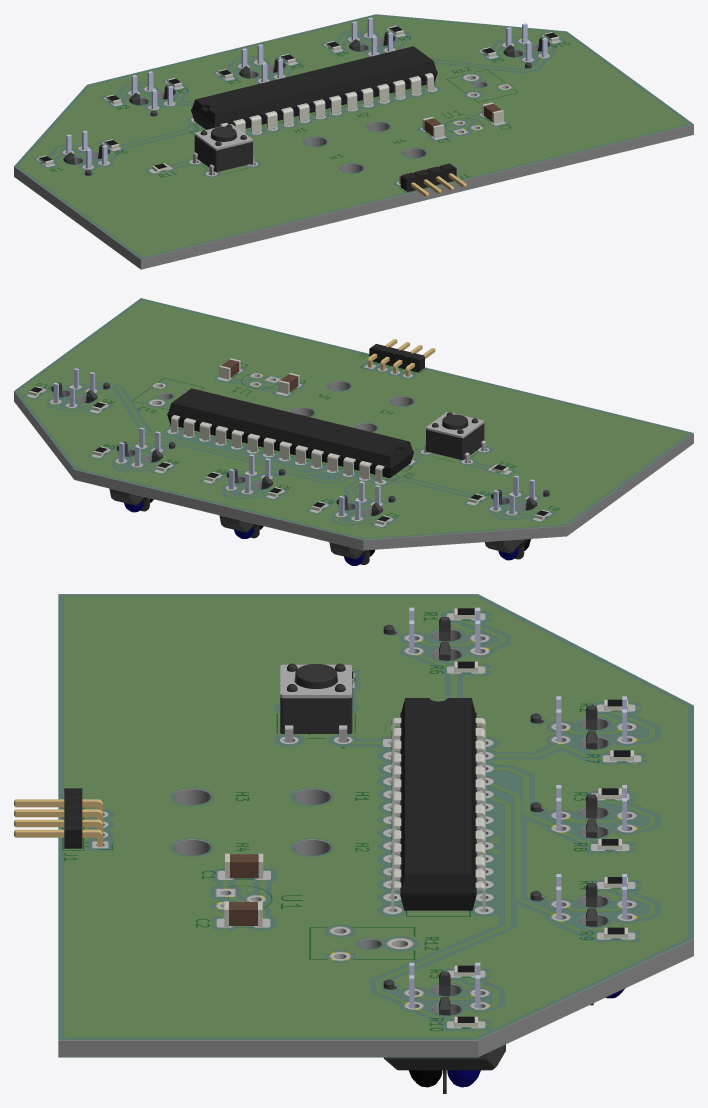
File: line-follower-sensor-array-m3.glb
3 views of the same model, one above another, from view 1: azimuth 30°, elevation 25°; view 2: azimuth 150°, elevation 25°; view 3: azimuth 270°, elevation 25° (orthographic). The views are drawn at different scales.
Visible parts, largest first — view 1: =>[0:1:1:11], =>[0:1:1:8], =>[0:1:1:12], U2, SW1, =>[0:1:1:9], J1, =>[0:1:1:10], U4, U5, U7, U3 (+1 smaller); view 2: =>[0:1:1:11], =>[0:1:1:8], =>[0:1:1:12], U2, SW1, =>[0:1:1:9], J1, U3, U4, U6, U5, =>[0:1:1:10] (+1 smaller); view 3: =>[0:1:1:11], =>[0:1:1:8], =>[0:1:1:12], U2, =>[0:1:1:9], SW1, U7, J1, =>[0:1:1:10], U6, U3, U4 (+3 smaller).
Boxes of the visible parts, <box> form: =>[0:1:1:11]: <box>14,14,693,269</box>; =>[0:1:1:8]: <box>19,16,687,256</box>; =>[0:1:1:12]: <box>14,15,693,269</box>; U2: <box>191,46,437,133</box>; SW1: <box>193,124,254,175</box>; =>[0:1:1:9]: <box>36,28,560,185</box>; J1: <box>399,163,466,196</box>; =>[0:1:1:10]: <box>40,36,569,192</box>; U4: <box>129,71,175,116</box>; U5: <box>239,44,285,82</box>; U7: <box>503,23,549,68</box>; U3: <box>63,130,109,175</box>; =>[0:1:1:11]: <box>14,298,693,550</box>; =>[0:1:1:8]: <box>18,301,687,537</box>; =>[0:1:1:12]: <box>14,299,693,550</box>; U2: <box>167,388,413,483</box>; SW1: <box>424,412,485,463</box>; =>[0:1:1:9]: <box>27,364,551,526</box>; J1: <box>367,339,435,376</box>; U3: <box>485,475,549,560</box>; U4: <box>329,481,395,565</box>; U6: <box>109,427,175,512</box>; U5: <box>219,454,285,538</box>; =>[0:1:1:10]: <box>36,353,559,523</box>; =>[0:1:1:11]: <box>58,594,693,1057</box>; =>[0:1:1:8]: <box>65,597,687,1037</box>; =>[0:1:1:12]: <box>58,595,693,1056</box>; U2: <box>391,698,485,912</box>; =>[0:1:1:9]: <box>92,613,641,1028</box>; SW1: <box>280,663,352,742</box>; U7: <box>383,962,505,1093</box>; J1: <box>14,788,103,848</box>; =>[0:1:1:10]: <box>62,612,624,1031</box>; U6: <box>530,874,626,1005</box>; U3: <box>383,607,480,660</box>; U4: <box>530,696,626,749</box>.
Bounding box in the file's own units: 0.088 × 0.0131 × 0.0567.
